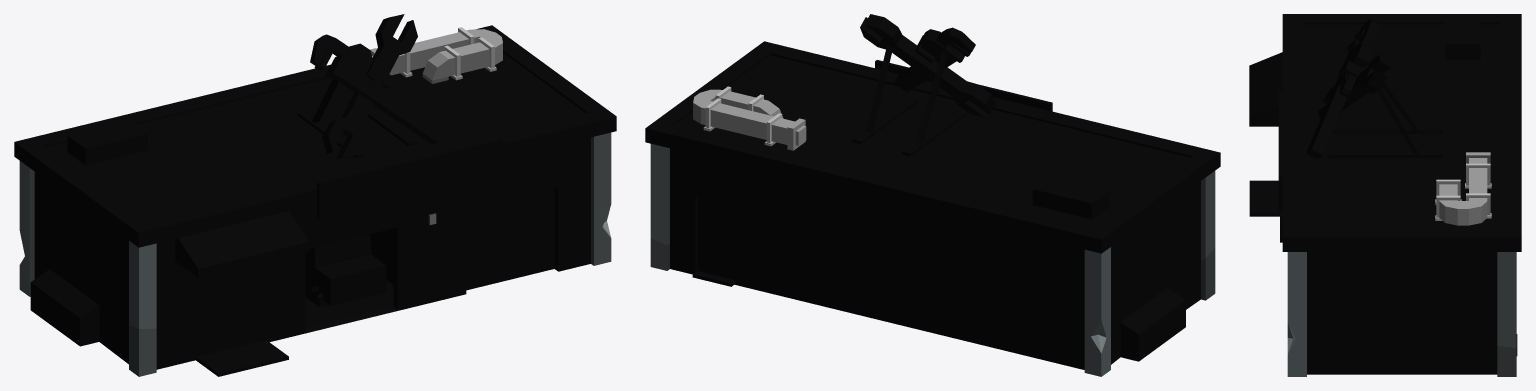
Rendered from SA_Bld_AutoRepair_Damaged_01.gltf.
The picture shows the model from 3 angles, left to right: view 1: azimuth 30°, elevation 25°; view 2: azimuth 150°, elevation 25°; view 3: azimuth 270°, elevation 25°; orthographic projection. The views are drawn at different scales.
Visible parts, largest first — view 1: SA_Bld_AutoRepair_Damaged_01; view 2: SA_Bld_AutoRepair_Damaged_01; view 3: SA_Bld_AutoRepair_Damaged_01.
Part boxes in pixels (x1,y1,x2,y2): SA_Bld_AutoRepair_Damaged_01: (14, 14, 616, 376); SA_Bld_AutoRepair_Damaged_01: (645, 14, 1220, 376); SA_Bld_AutoRepair_Damaged_01: (1249, 14, 1521, 376).
Bounding box in the file's own units: 21.49 × 10.67 × 10.81.
1 material, 1 textured.
